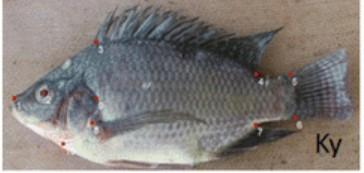Tilapia: (11, 2, 353, 170)
